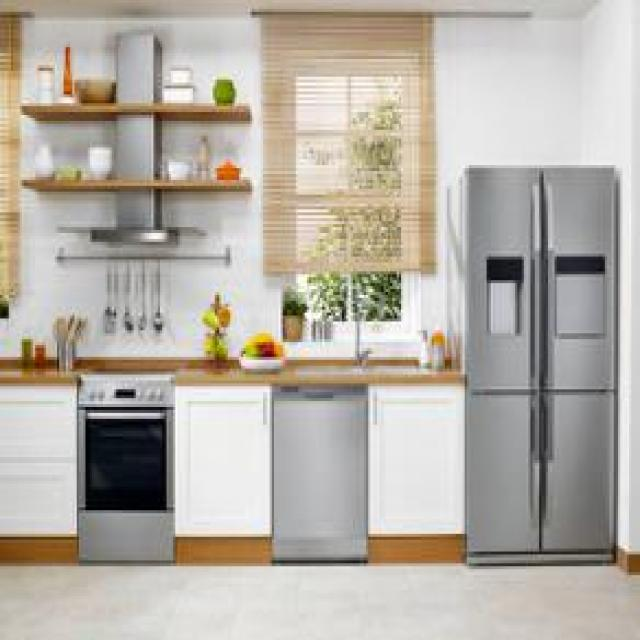dishwasher: (270, 378, 366, 564)
